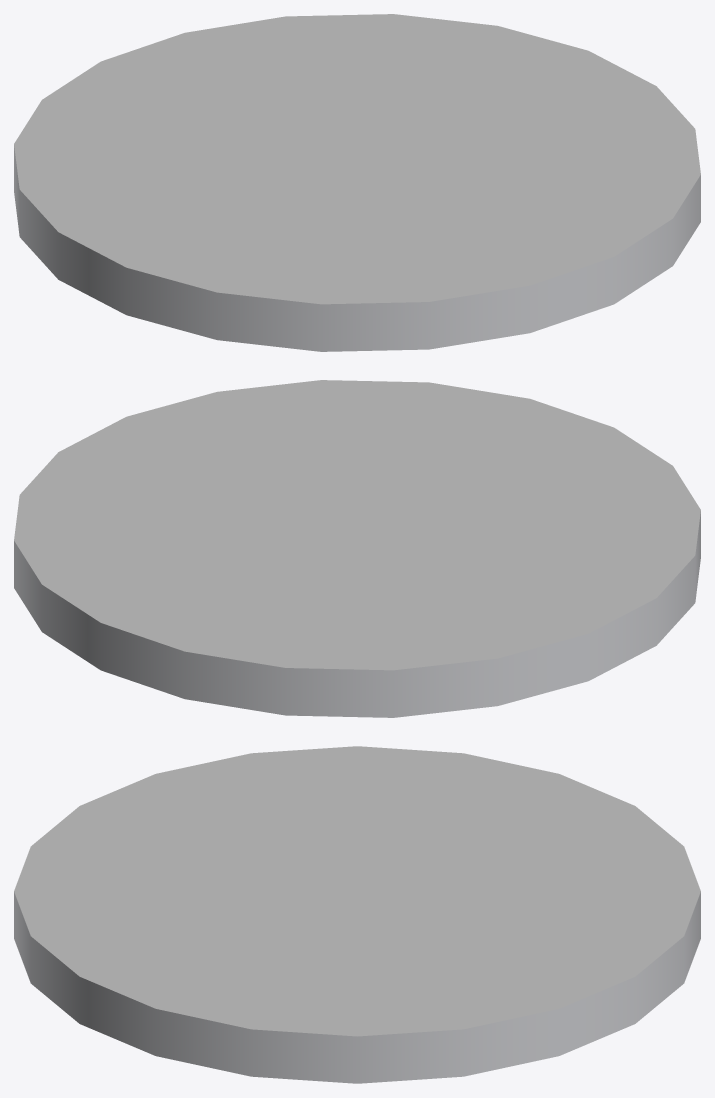
The model's file is stage.obj.
3 views of the same model, one above another, from view 1: azimuth 30°, elevation 25°; view 2: azimuth 150°, elevation 25°; view 3: azimuth 270°, elevation 25° (orthographic).
Parts seen in each view (by area): view 1: pCylinder1; view 2: pCylinder1; view 3: pCylinder1.
Boxes of the visible parts, bbox=[...] form: pCylinder1: bbox=[14, 14, 700, 351]; pCylinder1: bbox=[14, 380, 700, 717]; pCylinder1: bbox=[14, 746, 700, 1083].
Size of the model in its own units: 2 by 0.152 by 2.
Materials: 1 (1 with a texture image).
